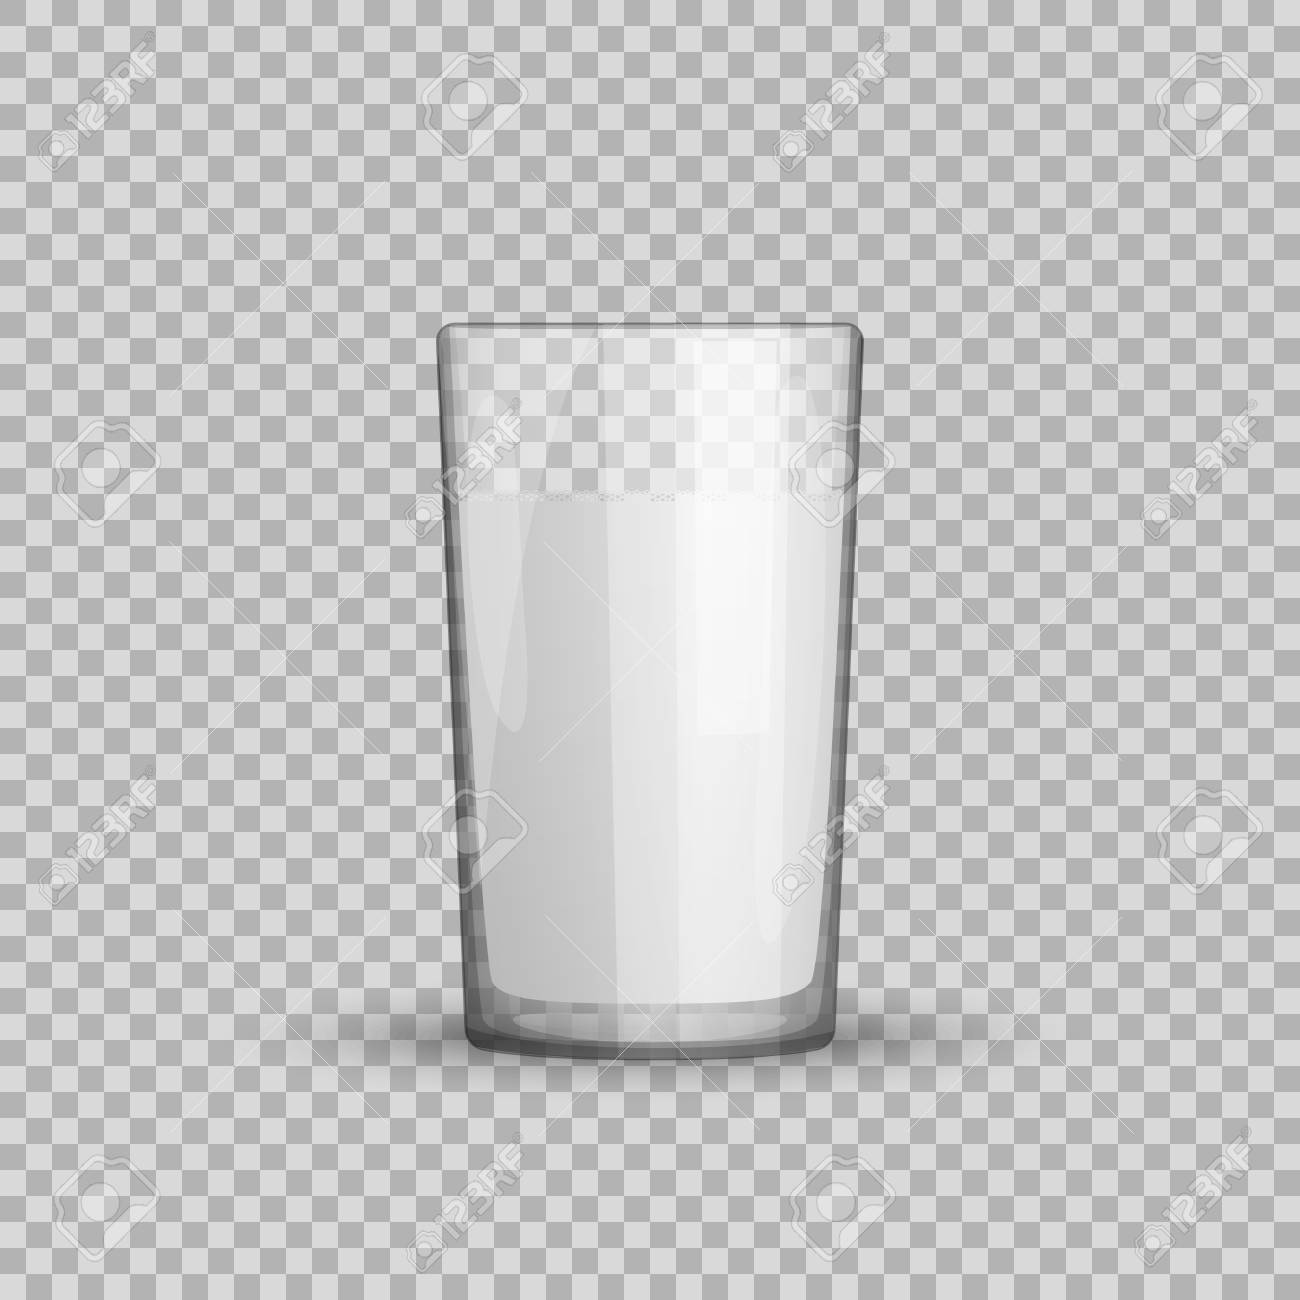glass of milk: (421, 310, 860, 1069)
